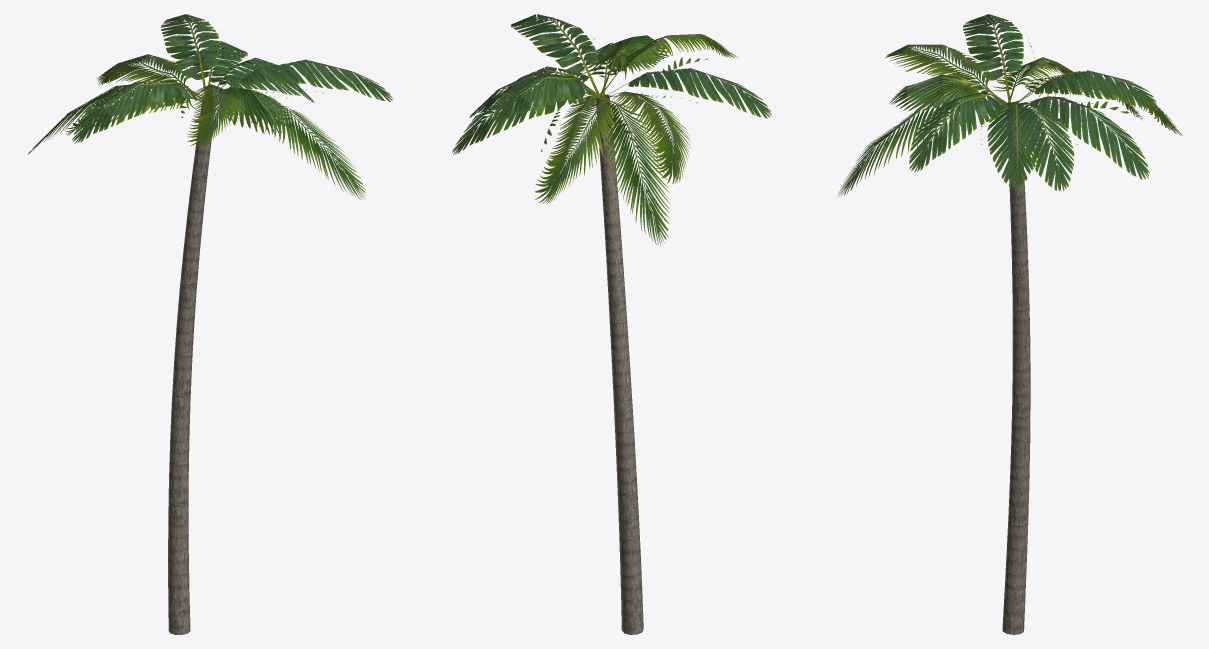
File: palm_01.glb
3 views of the same model, side by side, from view 1: azimuth 30°, elevation 25°; view 2: azimuth 150°, elevation 25°; view 3: azimuth 270°, elevation 25° (orthographic). The views are drawn at different scales.
Parts seen in each view (by area): view 1: palm_01; view 2: palm_01; view 3: palm_01.
Boxes of the visible parts, x1,y1,x2,y2 form: palm_01: (28, 14, 392, 634); palm_01: (452, 14, 771, 634); palm_01: (838, 14, 1182, 634).
Size of the model in its own units: 6.38 by 10.86 by 6.33.
Materials: 2 (2 with a texture image).
